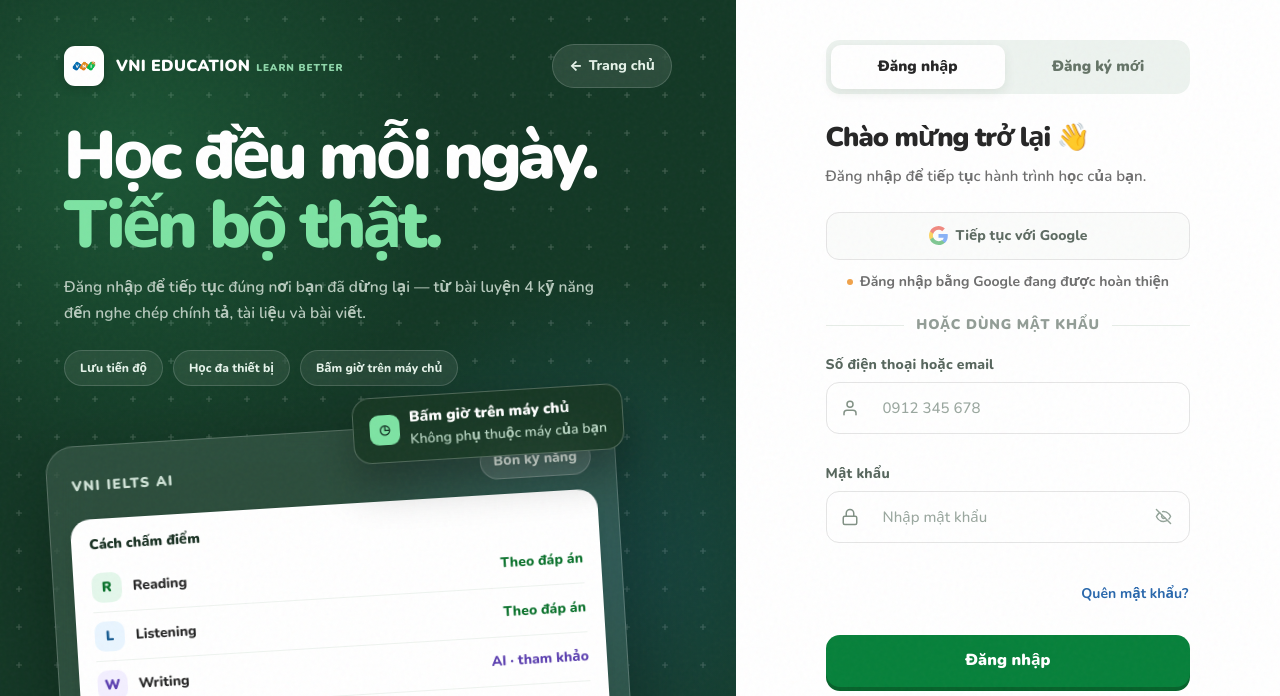
Test case: hints at Google when a password sign-in fails
The width and height of the screenshot is (1280, 696).
Type "ngdthang.dev@gmail.com" into the field labelled "Số điện thoại hoặc email" at [1008, 408], box [841,383,1175,433]
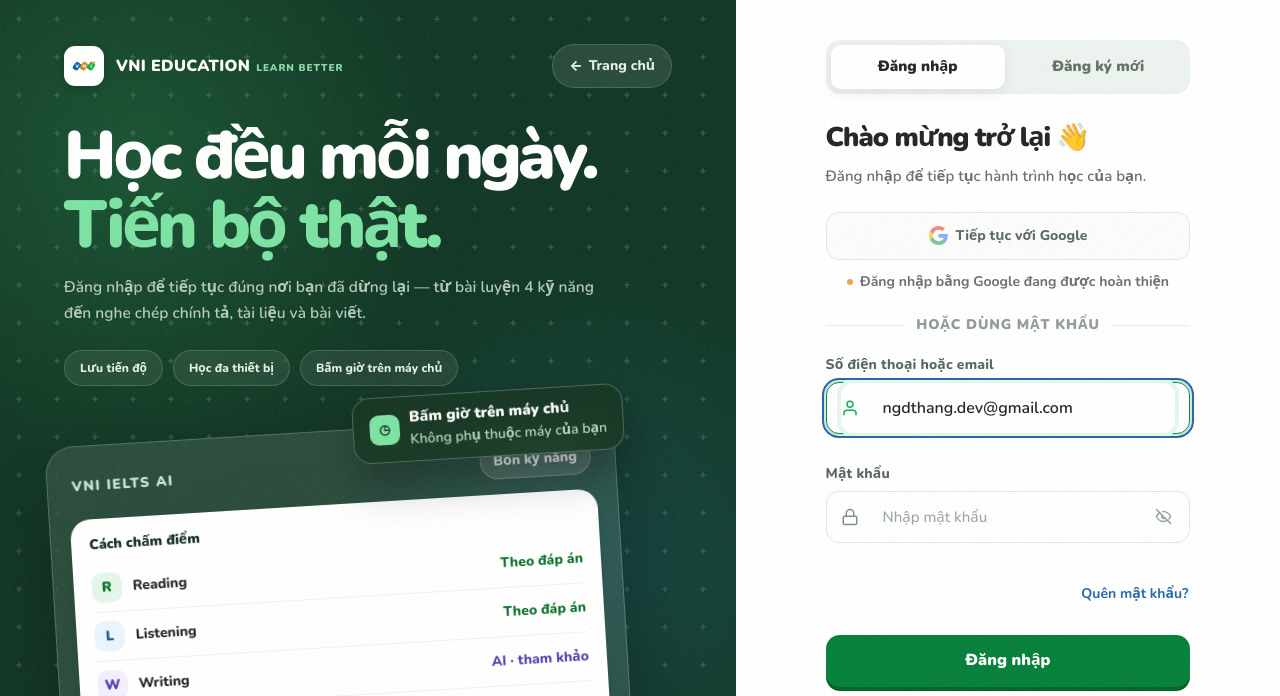
Type "doan-mat-khau" into the password field labelled "Mật khẩu" at [1008, 516], box [841,492,1175,542]
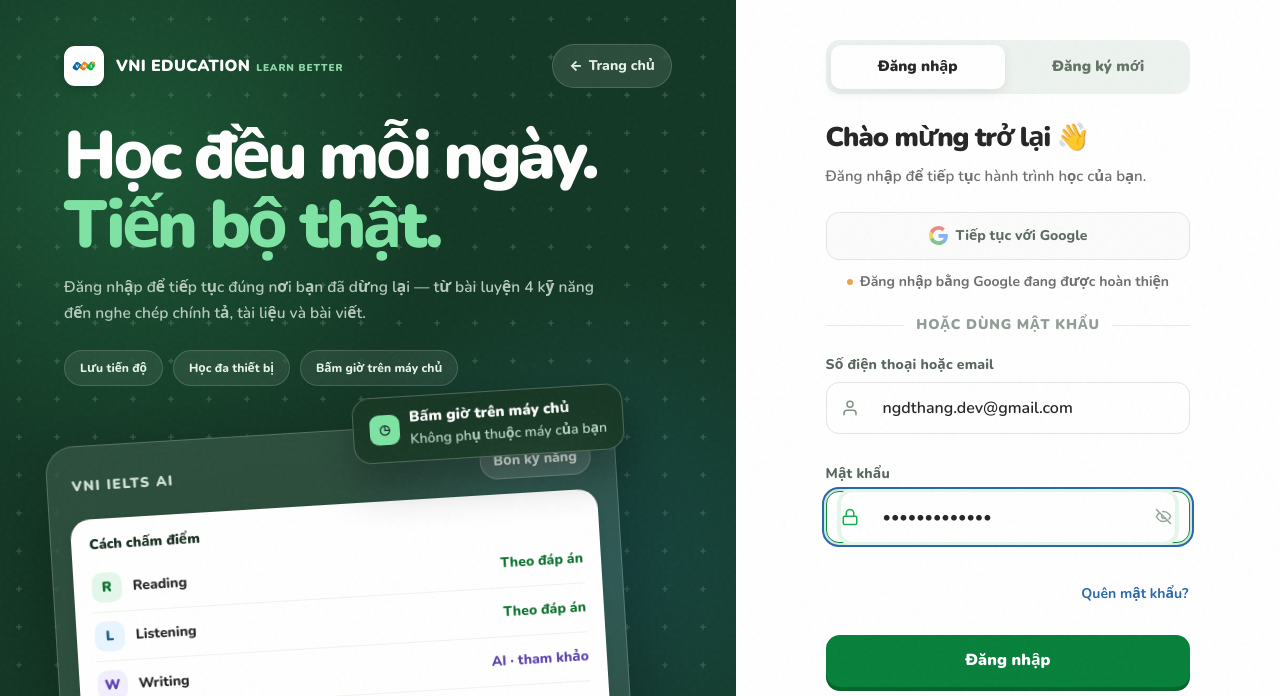
Click the button "Đăng nhập" at [1008, 660], box [826,634,1190,686]
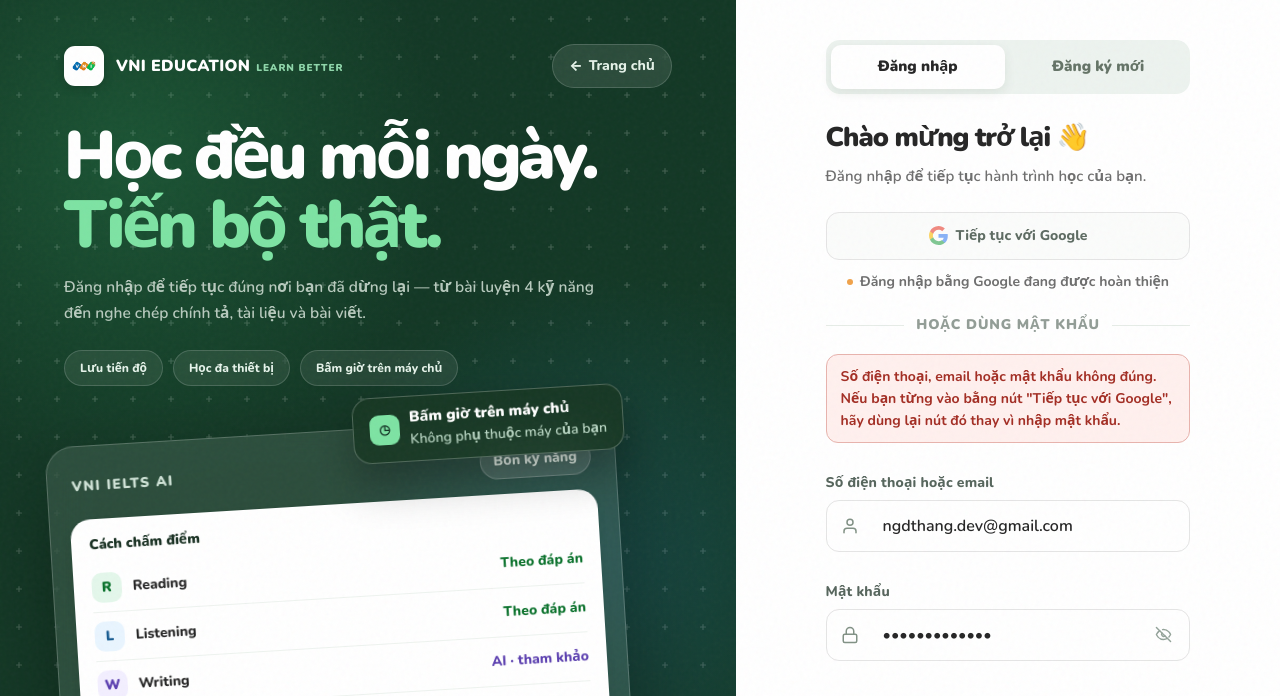
Now the message shows "Google", box [841,367,1172,430]
